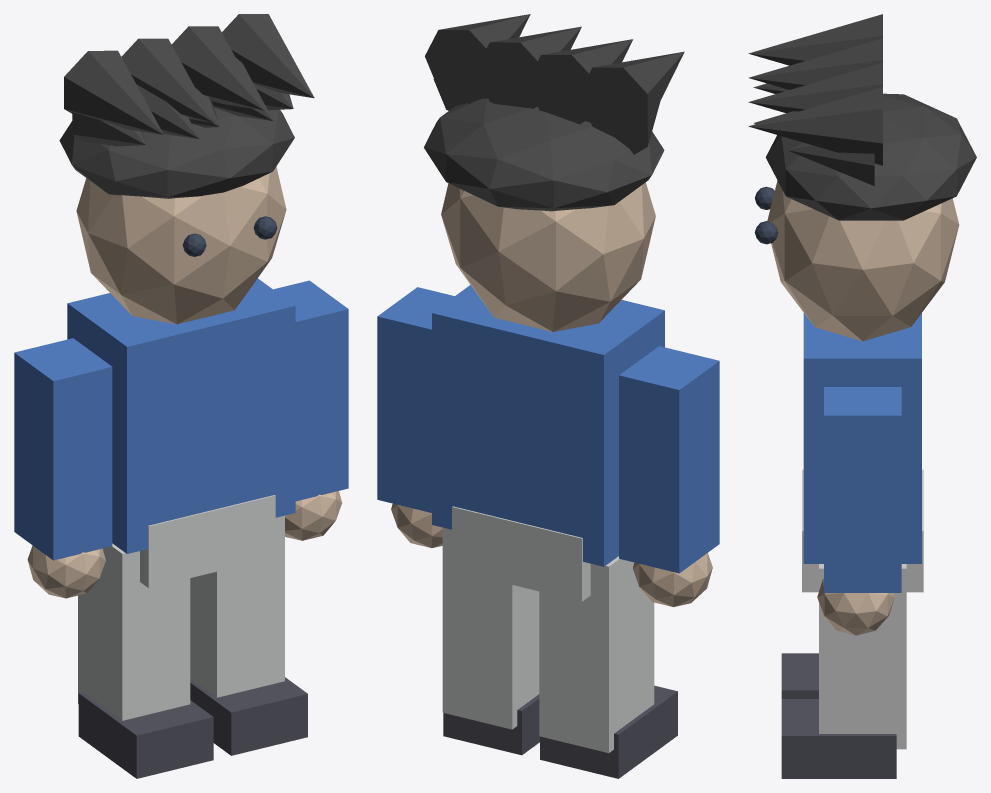
The model's file is vegeta.glb.
3 renders of one model, left to right at view 1: azimuth 30°, elevation 25°; view 2: azimuth 150°, elevation 25°; view 3: azimuth 270°, elevation 25°, orthographic. The views are drawn at different scales.
Parts seen in each view (by area): view 1: part_000, part_010, part_002, part_004, part_013, part_008, part_006, part_001, part_005, part_009, part_019, part_021 (+8 smaller); view 2: part_000, part_010, part_002, part_013, part_004, part_008, part_006, part_001, part_019, part_005, part_021, part_022 (+4 smaller); view 3: part_010, part_006, part_013, part_000, part_008, part_009, part_022, part_020, part_019, part_021, part_007, part_005 (+3 smaller).
Boxes of the visible parts, x1,y1,x2,y2 form: part_000: [67, 278, 295, 553]; part_010: [76, 166, 286, 324]; part_002: [14, 338, 112, 560]; part_004: [78, 543, 190, 720]; part_013: [59, 107, 294, 198]; part_008: [190, 515, 284, 697]; part_006: [273, 280, 348, 501]; part_001: [140, 495, 275, 588]; part_005: [78, 692, 213, 778]; part_009: [190, 677, 307, 755]; part_019: [64, 50, 163, 134]; part_021: [171, 26, 264, 110]; part_000: [432, 285, 664, 566]; part_010: [441, 182, 655, 331]; part_002: [619, 346, 719, 573]; part_013: [424, 98, 664, 211]; part_004: [539, 556, 654, 753]; part_008: [442, 527, 539, 729]; part_006: [377, 287, 454, 512]; part_001: [452, 506, 590, 601]; part_019: [579, 51, 684, 141]; part_005: [540, 685, 677, 778]; part_021: [476, 26, 581, 108]; part_022: [425, 14, 530, 103]; part_010: [767, 180, 959, 341]; part_006: [824, 387, 901, 592]; part_013: [765, 93, 976, 220]; part_000: [803, 313, 921, 563]; part_008: [819, 564, 906, 749]; part_009: [781, 699, 896, 778]; part_022: [748, 87, 882, 165]; part_020: [748, 38, 882, 89]; part_019: [748, 14, 882, 65]; part_021: [748, 62, 882, 113]; part_007: [817, 578, 894, 635]; part_005: [781, 653, 818, 698].
Size of the model in its own units: 1.03 by 2.23 by 0.6778.
